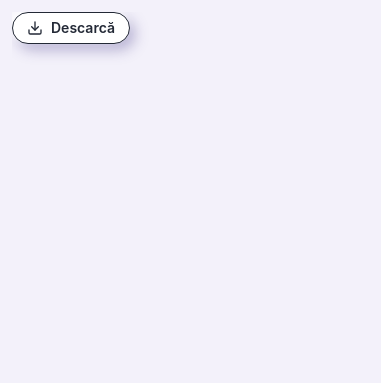
DownloadButton › shows "Fișier corupt detectat" with both hashes, the storage, the trace ID and the next step
What coordinates should you click on to do the following:
click the button with aria-label "Descarcă și verifică Avarie.pdf"
I would click on:
 (71, 28)
Its box is [12, 12, 130, 44].
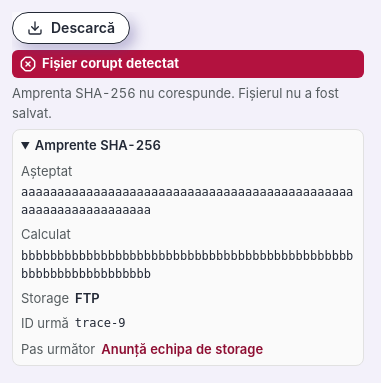
Expected: the text "Fișier corupt detectat" is shown, [12, 50, 364, 78]
Expected: the text "trace-9" is shown, [75, 314, 125, 334]
Expected: the text "Anunță echipa de storage" is shown, [101, 340, 263, 359]
